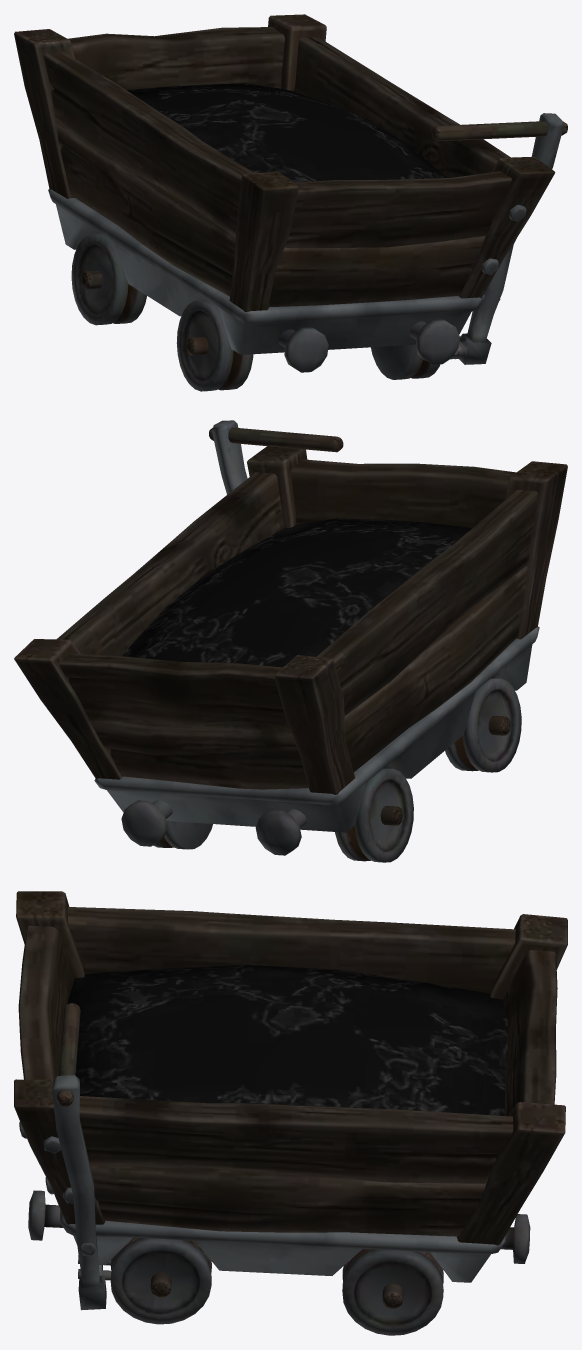
The model's file is minecart.glb.
3 views of the same model, one above another, from view 1: azimuth 30°, elevation 25°; view 2: azimuth 150°, elevation 25°; view 3: azimuth 270°, elevation 25° (orthographic). The views are drawn at different scales.
Parts seen in each view (by area): view 1: Minecart020_low_MinecartMat.001_0, Minecart010_low_CoalMat.001_0; view 2: Minecart020_low_MinecartMat.001_0, Minecart010_low_CoalMat.001_0; view 3: Minecart020_low_MinecartMat.001_0, Minecart010_low_CoalMat.001_0.
Part boxes in pixels (<box>): Minecart020_low_MinecartMat.001_0: <box>14,14,567,391</box>; Minecart010_low_CoalMat.001_0: <box>126,83,446,182</box>; Minecart020_low_MinecartMat.001_0: <box>14,420,567,862</box>; Minecart010_low_CoalMat.001_0: <box>122,518,471,667</box>; Minecart020_low_MinecartMat.001_0: <box>14,891,567,1335</box>; Minecart010_low_CoalMat.001_0: <box>67,965,508,1115</box>.
Bounding box in the file's own units: 1043 × 887 × 1358.
2 materials, 2 textured.
